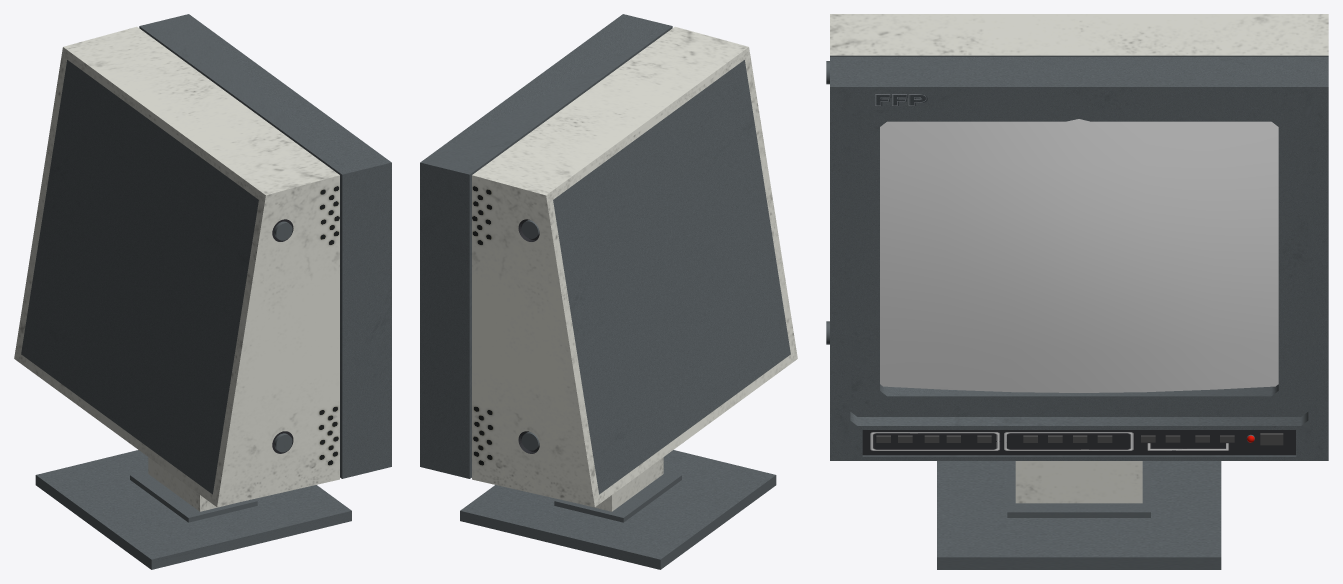
File: CRTMonitor.glb
3 renders of one model, left to right at view 1: azimuth 30°, elevation 25°; view 2: azimuth 150°, elevation 25°; view 3: azimuth 270°, elevation 25°, orthographic. The views are drawn at different scales.
Parts seen in each view (by area): view 1: CRT, Cube, Cube.002, Cube.001; view 2: CRT, Cube, Cube.002, Cube.001; view 3: CRT, ScreenOFF, Cube, Cube.001, Cube.002, Buttons.
Boxes of the visible parts, x1,y1,x2,y2 form: CRT: [14, 14, 391, 507]; Cube: [35, 450, 351, 569]; Cube.002: [130, 471, 257, 522]; Cube.001: [148, 457, 228, 511]; CRT: [420, 14, 797, 507]; Cube: [460, 450, 776, 569]; Cube.002: [554, 471, 681, 522]; Cube.001: [584, 457, 663, 511]; CRT: [826, 14, 1328, 460]; ScreenOFF: [880, 119, 1278, 392]; Cube: [937, 461, 1221, 569]; Cube.001: [1015, 461, 1142, 503]; Cube.002: [1007, 470, 1150, 517]; Buttons: [876, 435, 1234, 442].
Size of the model in its own units: 2.88 by 5.38 by 5.09.
7 materials, 3 textured.
